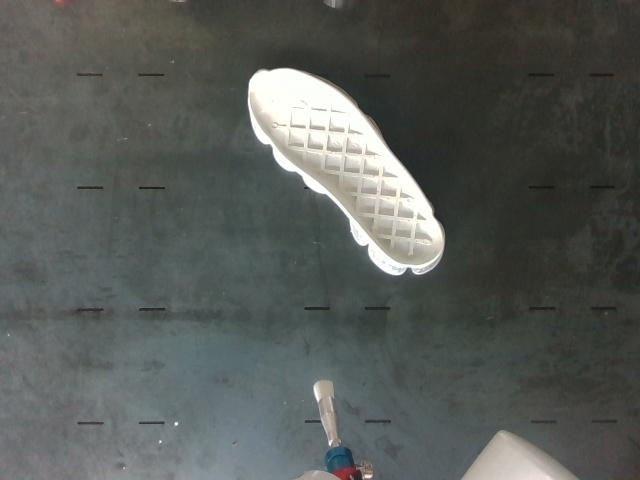shoes: (250, 70, 443, 265)
